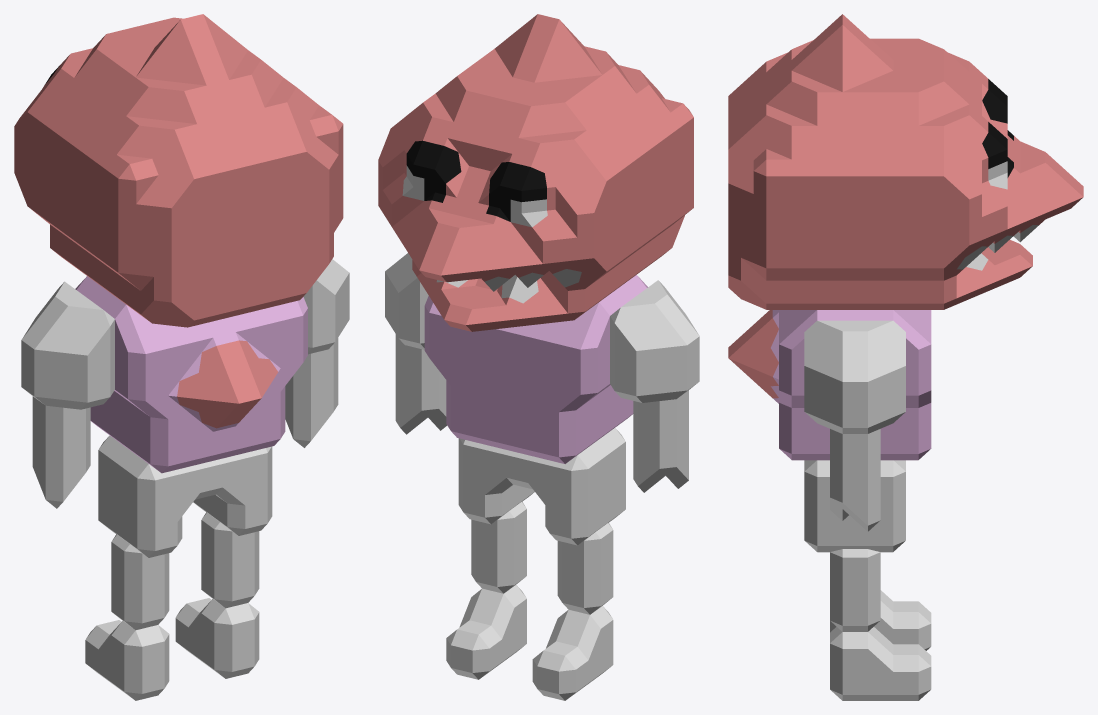
The model's file is Nomami_res_fbx.fbx.
3 renders of one model, left to right at view 1: azimuth 30°, elevation 25°; view 2: azimuth 150°, elevation 25°; view 3: azimuth 270°, elevation 25°, orthographic. The views are drawn at different scales.
Visible parts, largest first — view 1: itmynomami_0611, itmynomami_0611.012, itmynomami_0611.007, itmynomami_0611.014, itmynomami_0611.001, itmynomami_0611.002, itmynomami_0611.013, itmynomami_0611.005, itmynomami_0611.006, itmynomami_0611.011, itmynomami_0611.009, itmynomami_0611.008 (+3 smaller); view 2: itmynomami_0611, itmynomami_0611.012, itmynomami_0611.007, itmynomami_0611.014, itmynomami_0611.002, itmynomami_0611.001, itmynomami_0611.013, itmynomami_0611.006, itmynomami_0611.005, itmynomami_0611.011, itmynomami_0611.009, itmynomami_0611.008 (+3 smaller); view 3: itmynomami_0611, itmynomami_0611.012, itmynomami_0611.013, itmynomami_0611.001, itmynomami_0611.007, itmynomami_0611.005, itmynomami_0611.010, itmynomami_0611.002, itmynomami_0611.008, itmynomami_0611.003.
Boxes of the visible parts, x1,y1,x2,y2 form: itmynomami_0611: (14, 14, 343, 327); itmynomami_0611.012: (75, 276, 307, 473); itmynomami_0611.007: (98, 435, 272, 557); itmynomami_0611.014: (21, 281, 114, 409); itmynomami_0611.001: (175, 598, 259, 678); itmynomami_0611.002: (85, 620, 169, 700); itmynomami_0611.013: (303, 259, 349, 354); itmynomami_0611.005: (201, 512, 259, 577); itmynomami_0611.006: (111, 534, 169, 599); itmynomami_0611.011: (32, 396, 90, 454); itmynomami_0611.009: (32, 442, 90, 508); itmynomami_0611.008: (285, 382, 338, 447); itmynomami_0611: (378, 14, 693, 331); itmynomami_0611.012: (424, 275, 647, 463); itmynomami_0611.007: (458, 428, 625, 545); itmynomami_0611.014: (610, 280, 699, 402); itmynomami_0611.002: (532, 606, 613, 700); itmynomami_0611.001: (446, 585, 526, 679); itmynomami_0611.013: (385, 253, 428, 349); itmynomami_0611.006: (557, 522, 613, 585); itmynomami_0611.005: (471, 501, 526, 564); itmynomami_0611.011: (633, 390, 688, 446); itmynomami_0611.009: (633, 434, 688, 492); itmynomami_0611.008: (395, 376, 446, 434); itmynomami_0611: (728, 14, 1083, 309); itmynomami_0611.012: (728, 310, 931, 460); itmynomami_0611.013: (804, 320, 905, 433); itmynomami_0611.001: (830, 626, 931, 700); itmynomami_0611.007: (804, 460, 905, 552); itmynomami_0611.005: (830, 549, 880, 603); itmynomami_0611.010: (830, 429, 880, 479); itmynomami_0611.002: (830, 590, 931, 650); itmynomami_0611.008: (830, 474, 880, 531); itmynomami_0611.003: (830, 597, 880, 631).
Bounding box in the file's own units: 1.4 × 2.85 × 1.4.
